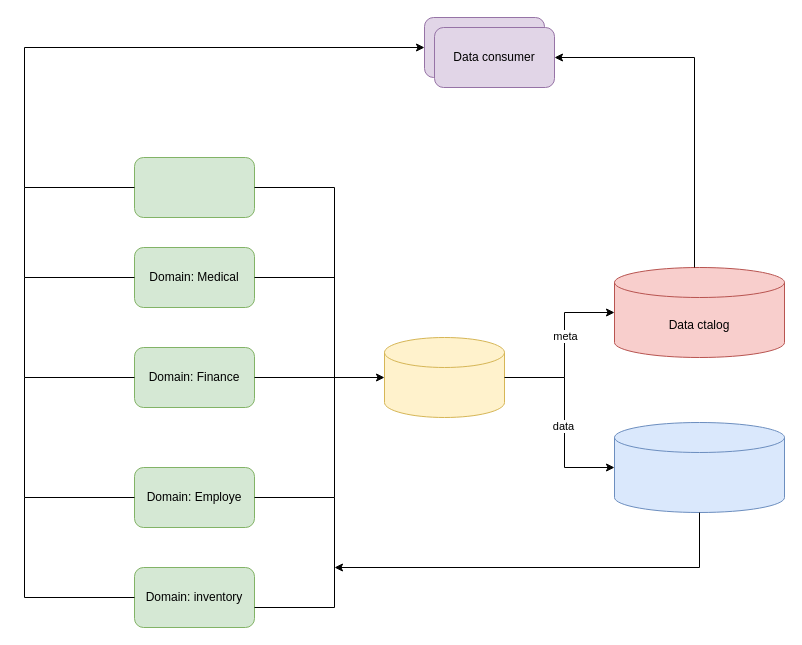
The diagram is 802 pixels wide and 645 high, and some of its shapes have lost their labels. The centre of each missing label's shape, as x and y in pixels:
Domain: Customers: the point at 194,187
DWH: the point at 699,467
Kafka: the point at 444,377
